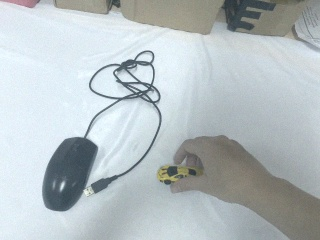box: (115, 1, 252, 35), (50, 1, 118, 15)
mouse: (42, 137, 98, 212)
toy_car: (153, 162, 204, 187)
